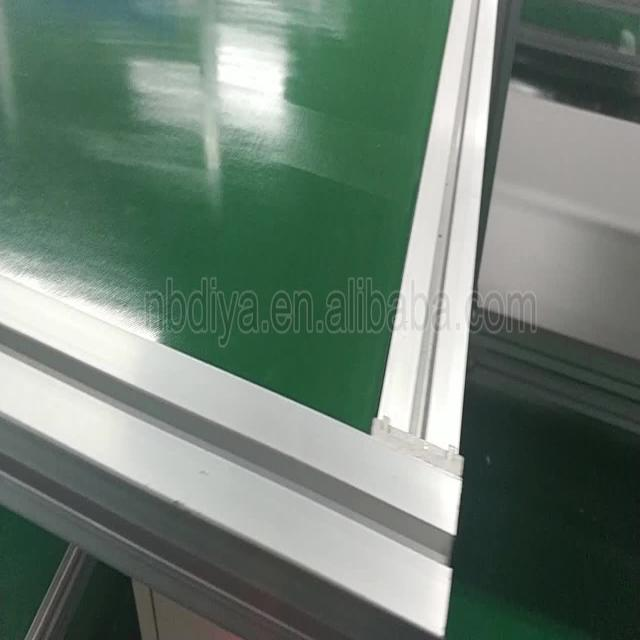conveyor: (1, 0, 522, 640)
